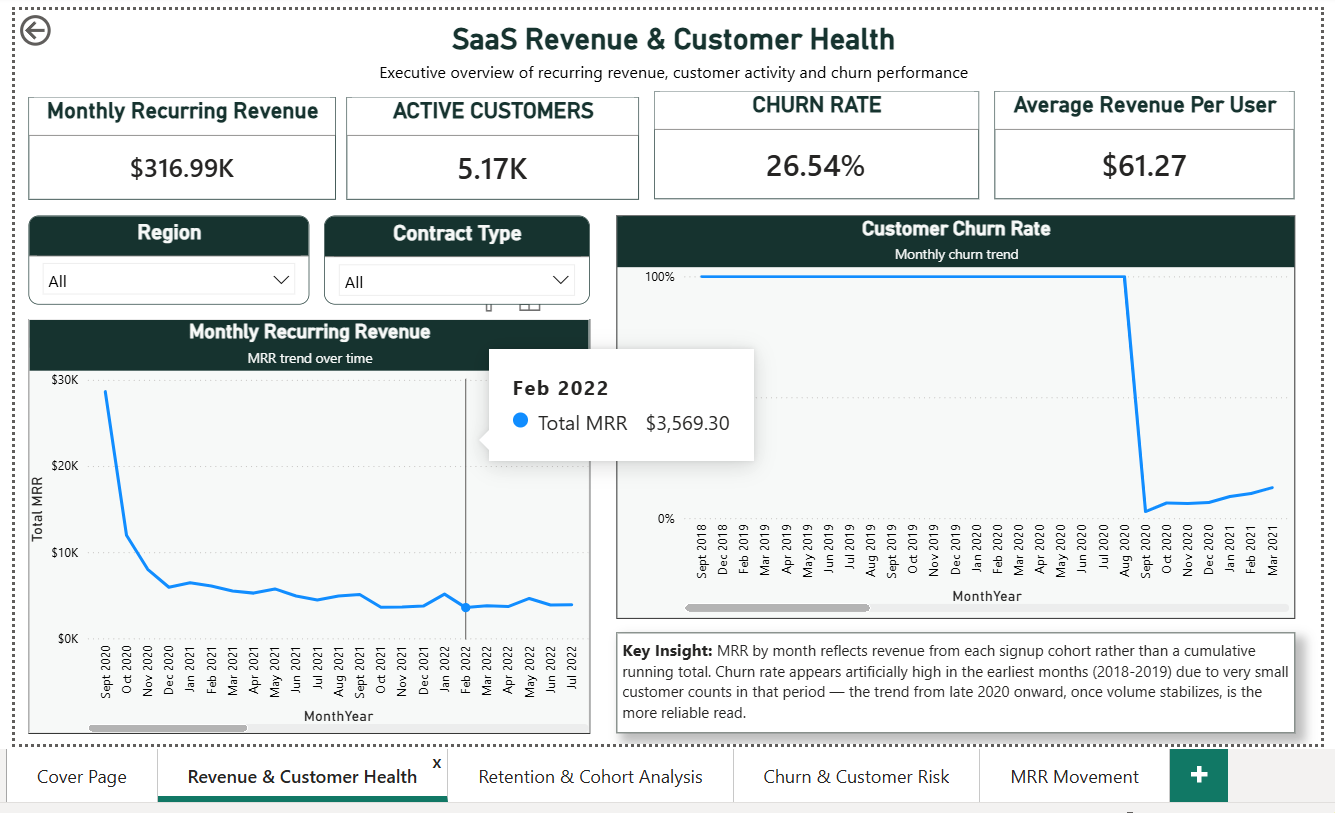

What the dashboard file says about the page in this screenshot:
{"tool":"powerbi","page":{"name":"Revenue & Customer Health","canvas":[1280,720],"ordinal":1},"visuals":[{"type":"cardVisual","title":"Average Revenue Per User","fields":{"Data":["Subscriptions.ARPU"]},"box":[960.7,80.1,294,106.3],"z":0},{"type":"cardVisual","title":"CHURN RATE","fields":{"Data":["Subscriptions.Churn Rate %"]},"box":[625.9,80.1,318.8,106.3],"z":1000},{"type":"cardVisual","title":"Monthly Recurring Revenue","fields":{"Data":["Subscriptions.Total MRR"]},"box":[13.1,85.9,301.3,100.4],"z":2000},{"type":"cardVisual","title":"ACTIVE CUSTOMERS","fields":{"Data":["Subscriptions.Active Customers"]},"box":[324.6,85.9,286.7,100.4],"z":3000},{"type":"lineChart","title":"Monthly Recurring Revenue","fields":{"Category":["Calender.MonthYear"],"Y":["Subscriptions.Total MRR"]},"box":[13,302.8,550.5,406.4],"z":4000},{"type":"slicer","title":"Region","fields":{"Values":["Subscriptions.Region"]},"box":[13,200.8,275.3,87.4],"z":5000},{"type":"slicer","title":"Contract Type","fields":{"Values":["Subscriptions.Contract"]},"box":[302.8,200.8,260.7,87.4],"z":6000},{"type":"lineChart","title":"Customer Churn Rate","fields":{"Category":["Calender.MonthYear"],"Y":["Subscriptions.Churn Rate %"]},"box":[589.4,200.8,665.5,395.1],"z":7000},{"type":"textbox","title":"SaaS Revenue & Customer Health","box":[25.9,11.3,1238.7,64.8],"z":8000},{"type":"actionButton","box":[0,0,100,40],"z":9000},{"type":"textbox","box":[589.4,610.4,665.5,98.8],"z":9001}]}

Visuals, with their boxes on the page's 1280x720 design canvas (x1, y1, x2, y2). These are canvas units, not pixel positions in the 1335x813 screenshot, which may show the page scaled, cropped or inside an application window:
"Average Revenue Per User" cardVisual: (x1=961, y1=80, x2=1255, y2=186)
"CHURN RATE" cardVisual: (x1=626, y1=80, x2=945, y2=186)
"Monthly Recurring Revenue" cardVisual: (x1=13, y1=86, x2=314, y2=186)
"ACTIVE CUSTOMERS" cardVisual: (x1=325, y1=86, x2=611, y2=186)
"Monthly Recurring Revenue" lineChart: (x1=13, y1=303, x2=564, y2=709)
"Region" slicer: (x1=13, y1=201, x2=288, y2=288)
"Contract Type" slicer: (x1=303, y1=201, x2=564, y2=288)
"Customer Churn Rate" lineChart: (x1=589, y1=201, x2=1255, y2=596)
"SaaS Revenue & Customer Health" textbox: (x1=26, y1=11, x2=1265, y2=76)
actionButton: (x1=0, y1=0, x2=100, y2=40)
textbox: (x1=589, y1=610, x2=1255, y2=709)
